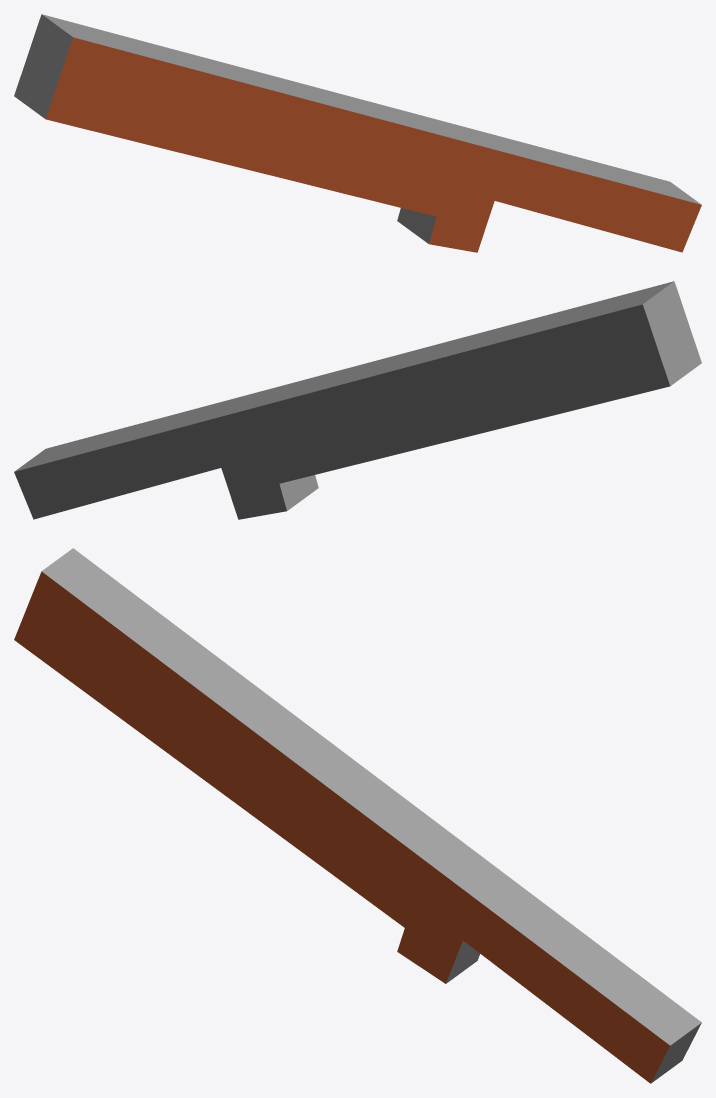
Rendered from construction_0467_assumed_A_Casa_h6m.obj.
The picture shows the model from 3 angles, top to bottom: view 1: azimuth 30°, elevation 25°; view 2: azimuth 150°, elevation 25°; view 3: azimuth 330°, elevation 25°; orthographic projection.
Visible parts, largest first — view 1: construction_0467_assumed_A_Casa; view 2: construction_0467_assumed_A_Casa; view 3: construction_0467_assumed_A_Casa.
Boxes of the visible parts, left/top/right/bottom form: construction_0467_assumed_A_Casa: left=14, top=14, right=701, bottom=252; construction_0467_assumed_A_Casa: left=14, top=281, right=701, bottom=519; construction_0467_assumed_A_Casa: left=14, top=548, right=701, bottom=1083.
Bounding box in the file's own units: 71.7 × 37.99 × 6.
